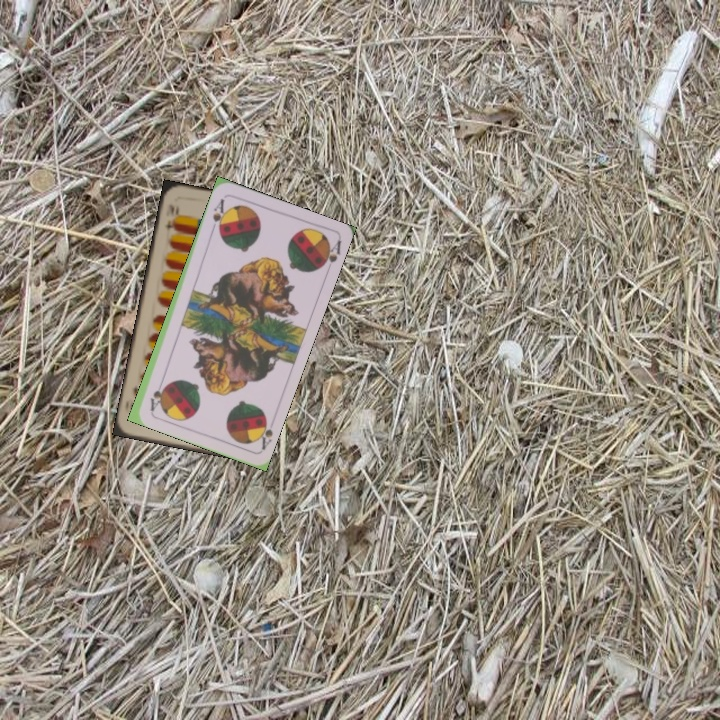E10: (162, 200, 182, 233)
SA: (251, 411, 275, 453), (208, 195, 229, 235)
